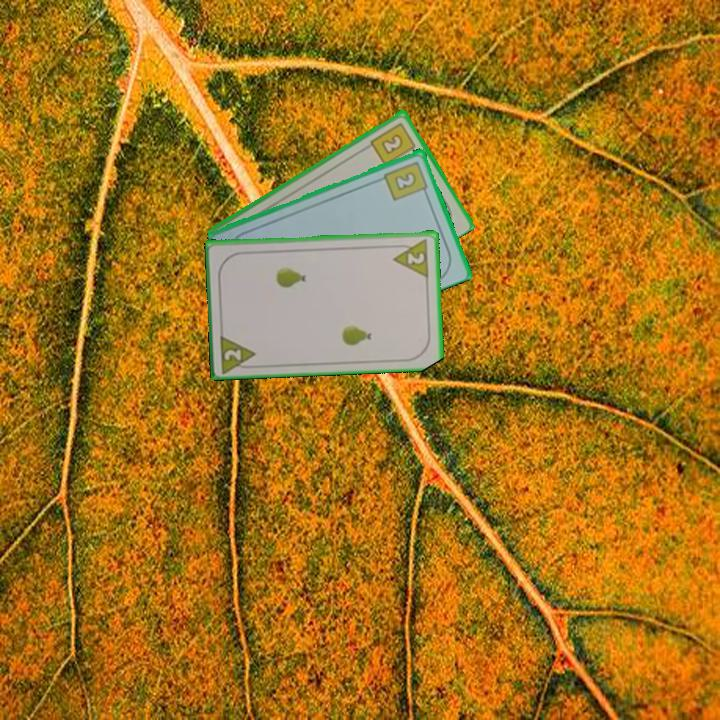2b: (367, 119, 420, 168), (381, 157, 431, 203)
2p: (217, 329, 260, 374), (390, 235, 431, 279)
